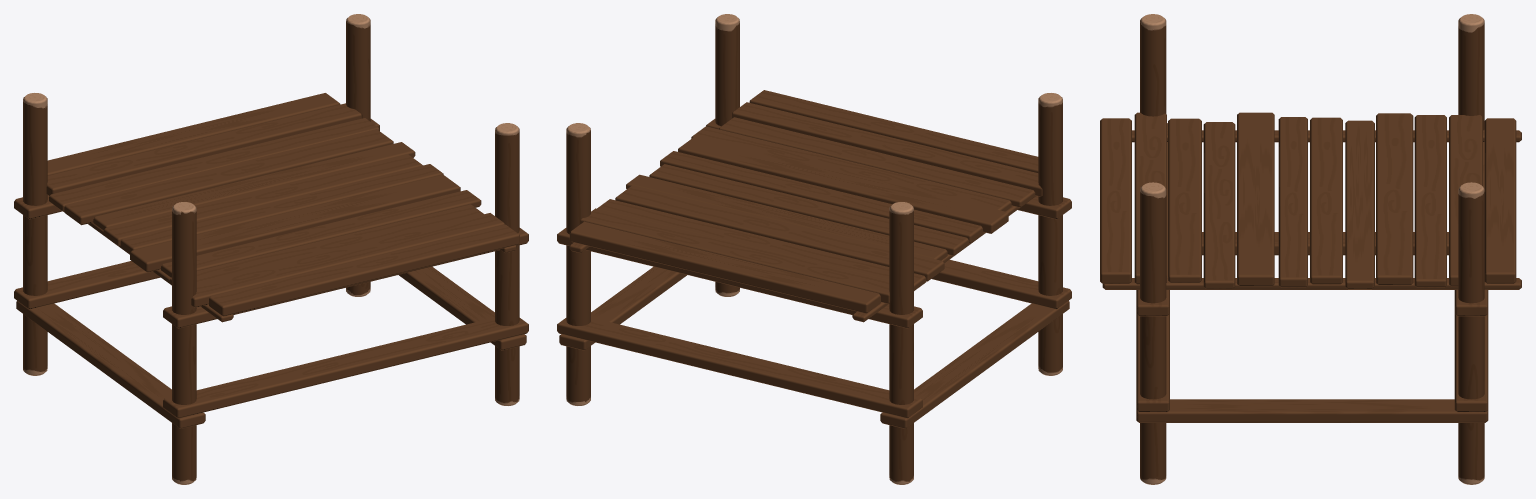
The model's file is M_Wide_Long_High_1.fbx.
3 renders of one model, left to right at view 1: azimuth 30°, elevation 25°; view 2: azimuth 150°, elevation 25°; view 3: azimuth 270°, elevation 25°, orthographic. The views are drawn at different scales.
Visible parts, largest first — view 1: M_Wide_Long_High_1; view 2: M_Wide_Long_High_1; view 3: M_Wide_Long_High_1.
Boxes of the visible parts, bbox=[...] form: M_Wide_Long_High_1: bbox=[14, 14, 528, 484]; M_Wide_Long_High_1: bbox=[557, 14, 1071, 484]; M_Wide_Long_High_1: bbox=[1100, 14, 1521, 484].
Bounding box in the file's own units: 820 × 611 × 795.
